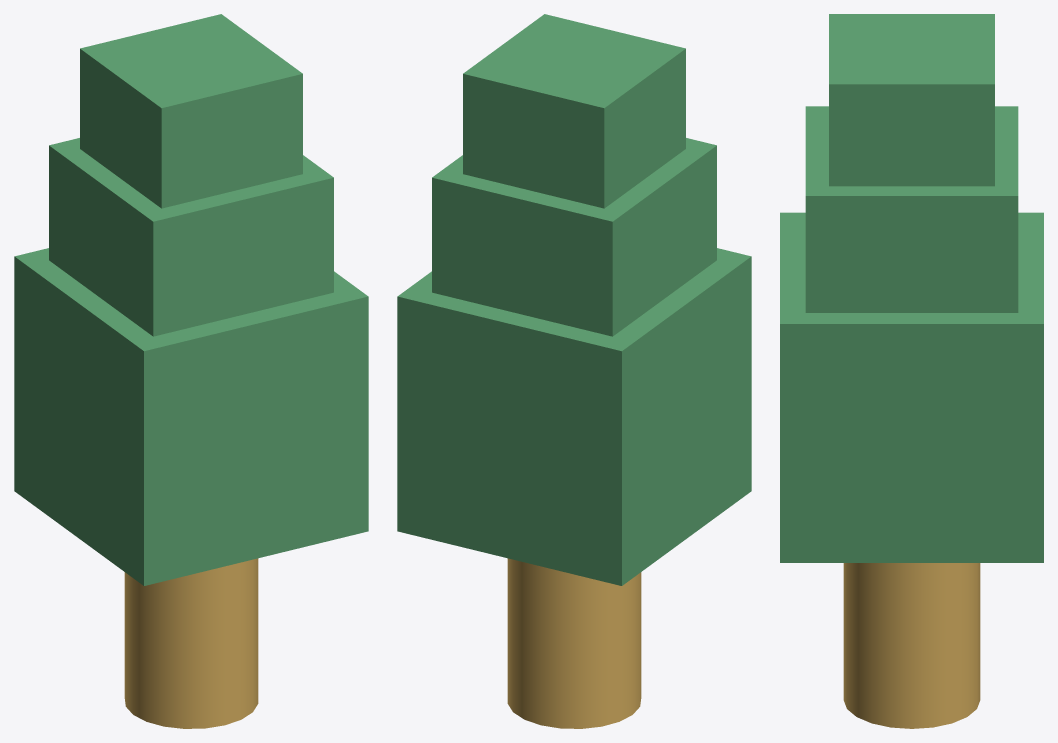
File: cubos_verde.fbx
3 views of the same model, side by side, from view 1: azimuth 30°, elevation 25°; view 2: azimuth 150°, elevation 25°; view 3: azimuth 270°, elevation 25° (orthographic).
Visible parts, largest first — view 1: pCube6, pCube5, pCube4, arvore25; view 2: pCube6, pCube5, pCube4, arvore25; view 3: pCube6, pCube5, pCube4, arvore25.
Boxes of the visible parts, <box> form: pCube6: <box>14,248,368,585</box>; pCube5: <box>49,138,333,336</box>; pCube4: <box>80,14,302,208</box>; arvore25: <box>124,558,258,728</box>; pCube6: <box>397,248,751,585</box>; pCube5: <box>432,138,716,336</box>; pCube4: <box>463,14,685,208</box>; arvore25: <box>507,558,641,728</box>; pCube6: <box>780,212,1043,562</box>; pCube5: <box>805,106,1018,312</box>; pCube4: <box>829,14,994,186</box>; arvore25: <box>843,563,980,728</box>.
Bounding box in the file's own units: 1.1 × 2.98 × 1.1.
